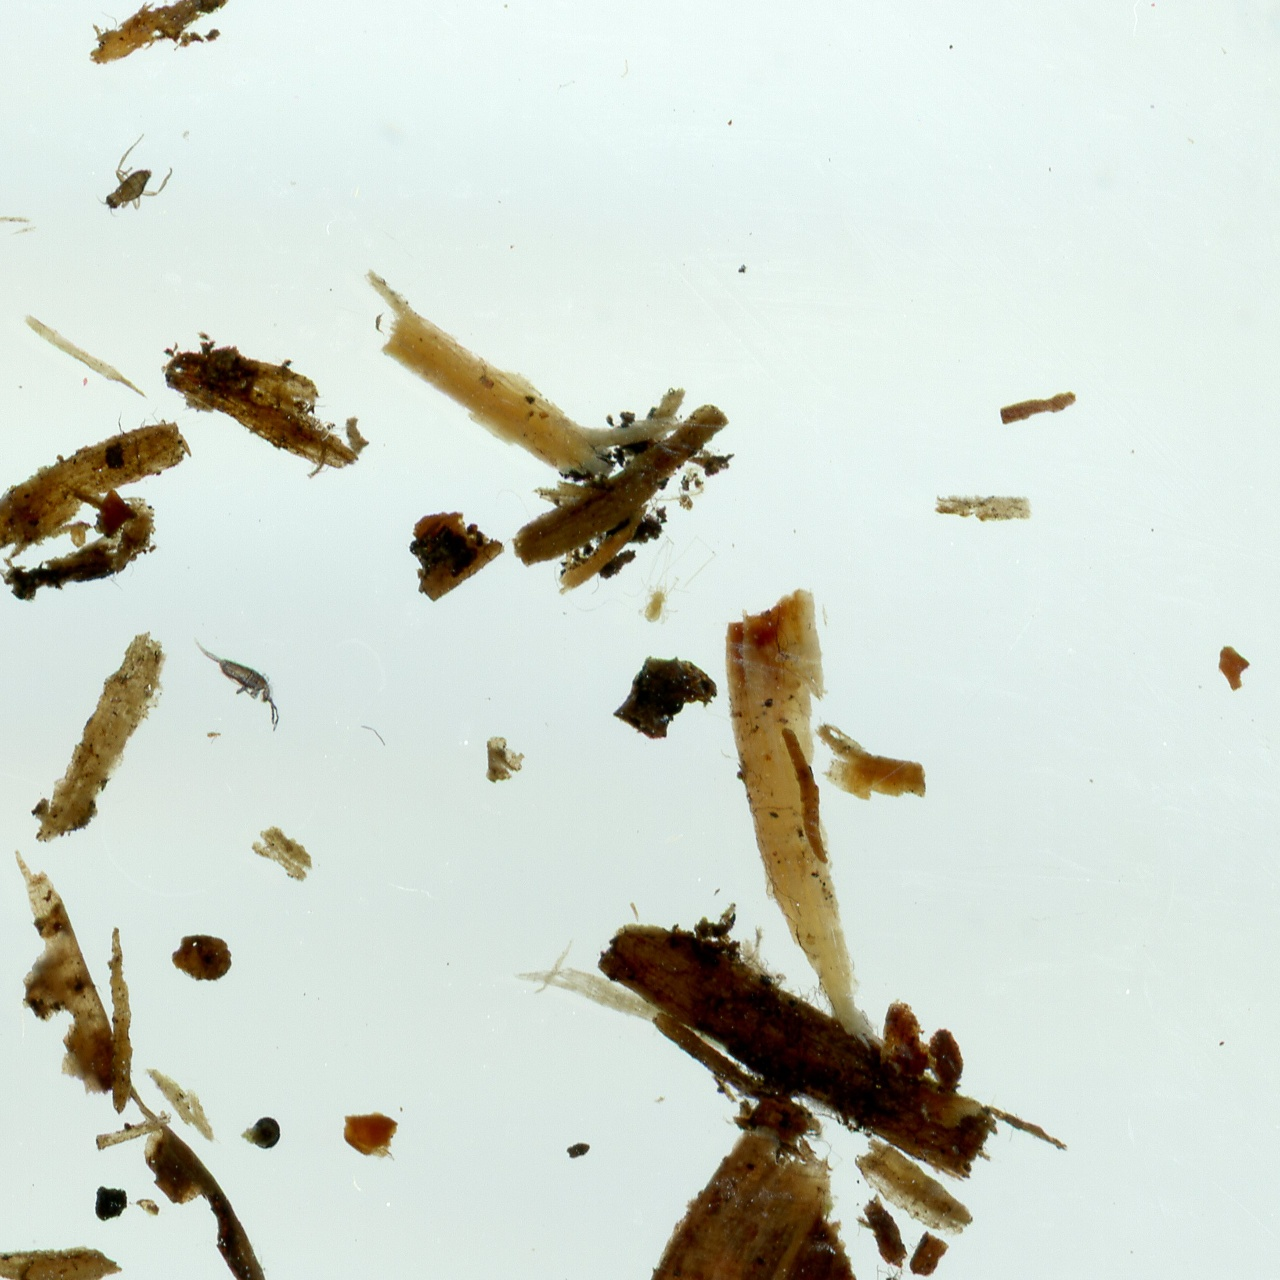arthropod: (81, 125, 189, 236), (621, 531, 722, 633), (190, 631, 282, 733)
